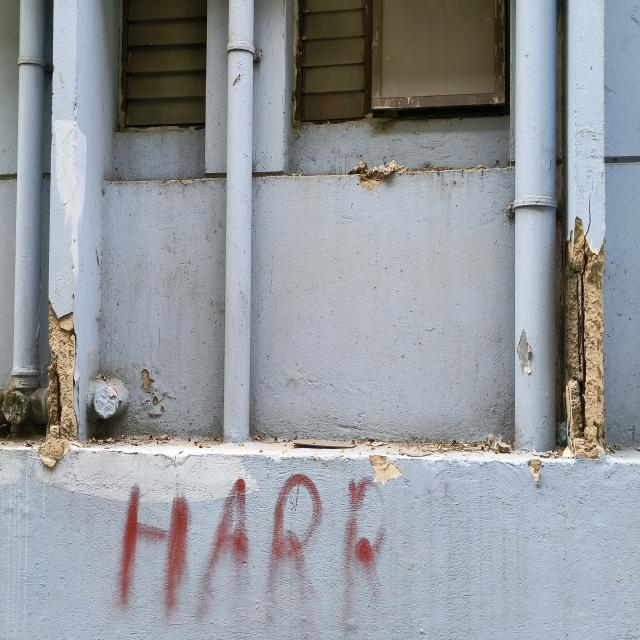Graffiti: (117, 474, 385, 637)
Paint Peeling: (369, 455, 402, 484), (517, 329, 532, 374), (101, 385, 123, 414), (528, 459, 542, 484)
Scaling: (141, 369, 166, 417)
Spalling: (564, 218, 606, 459), (37, 303, 81, 466)
